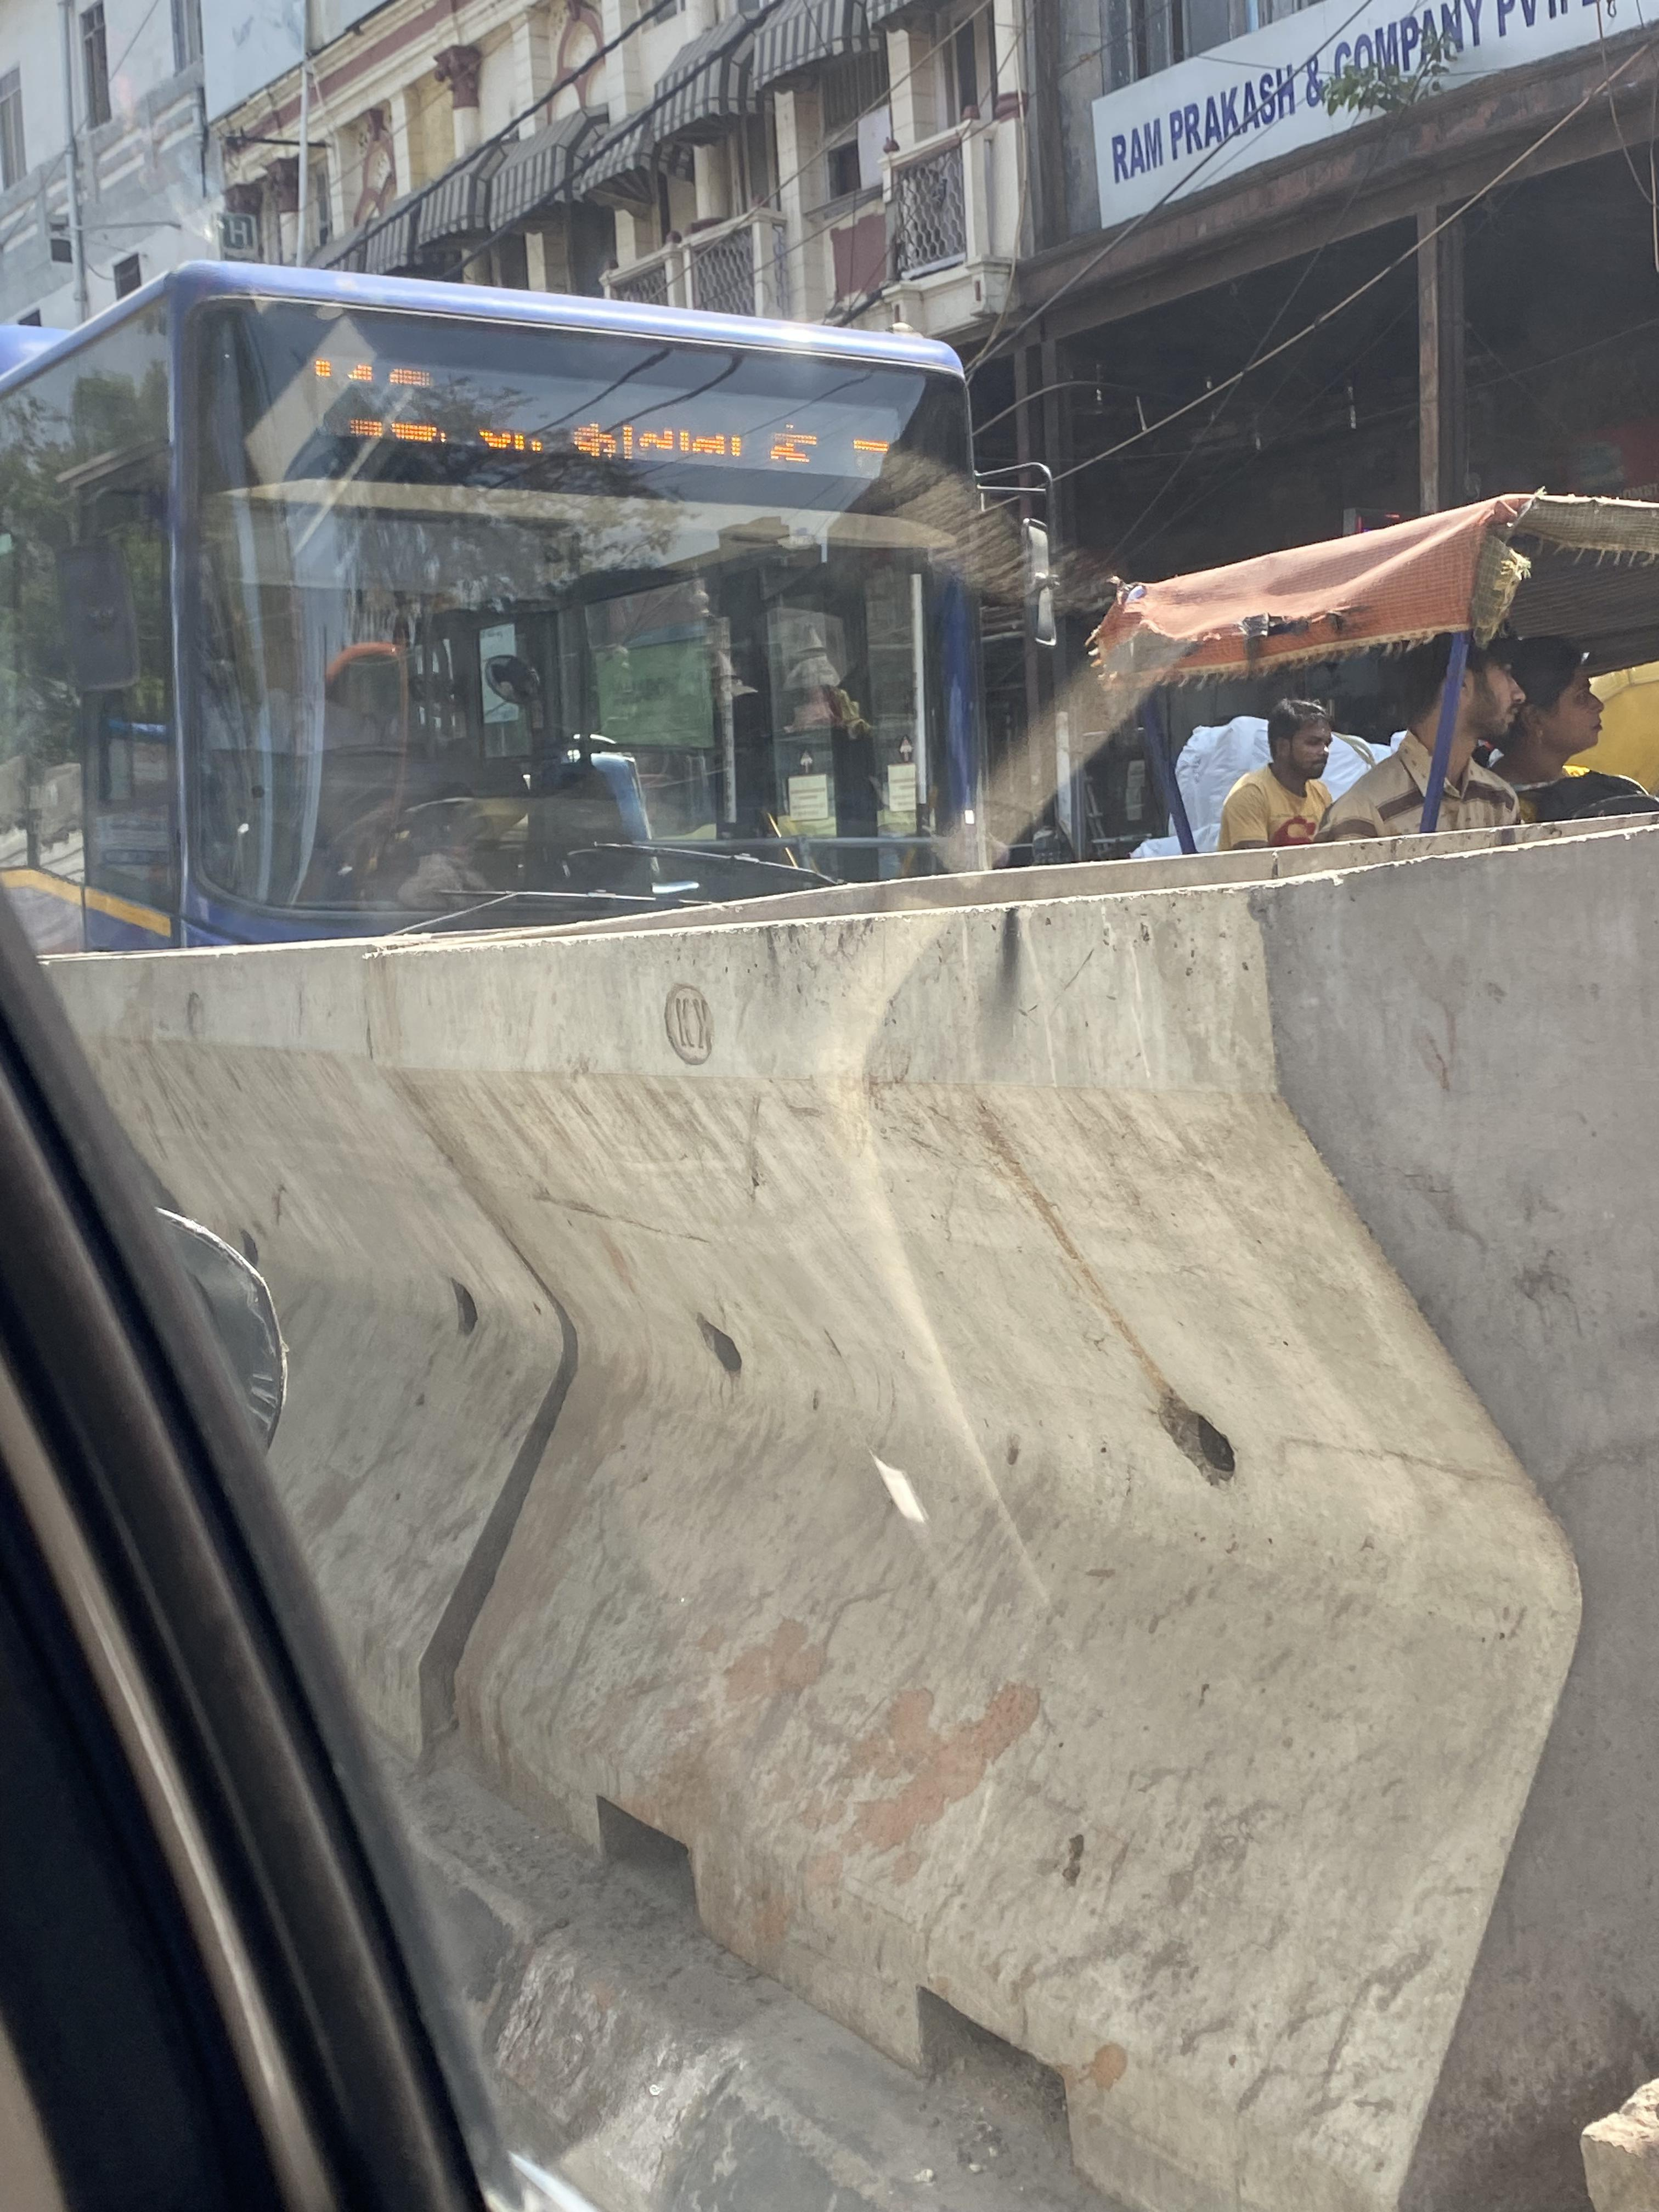Bus: (77, 258, 1175, 1010)
Display Board: (214, 286, 1026, 526)
